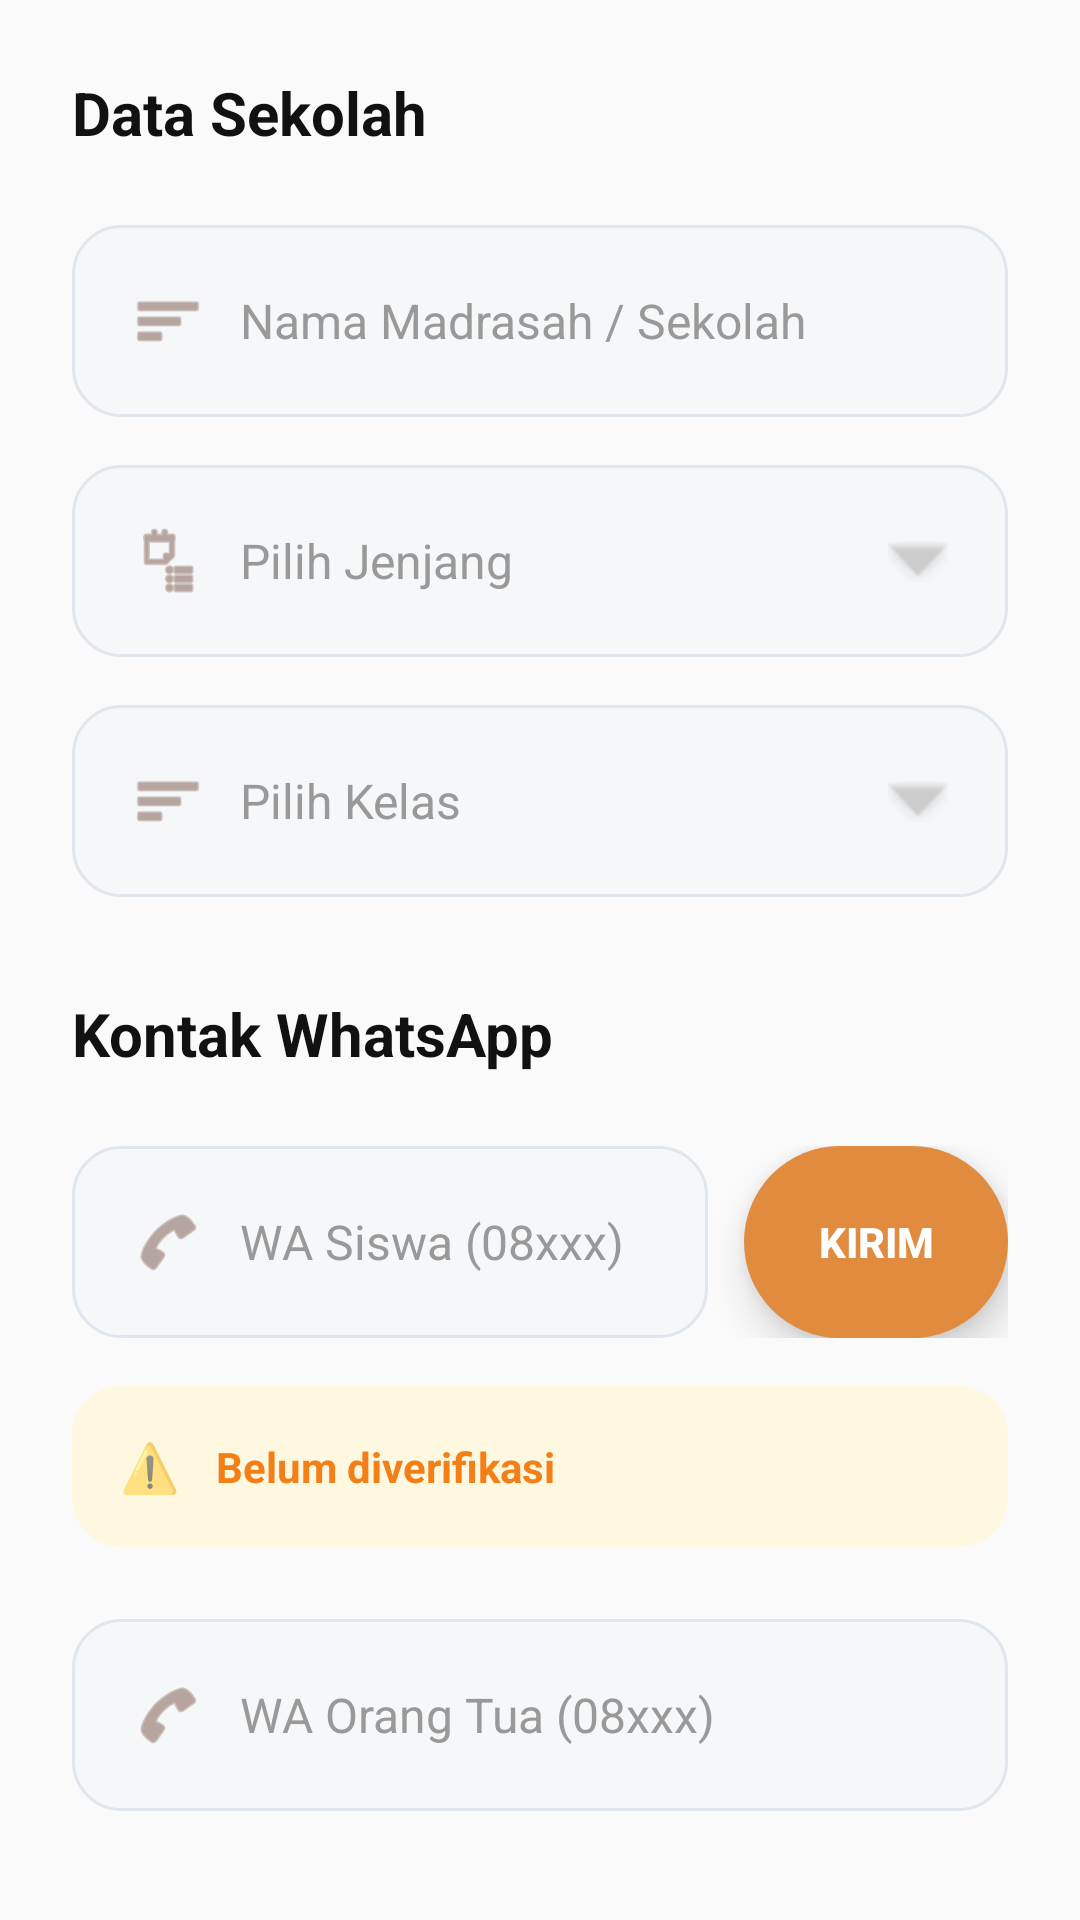

Locate icon controls on the screen. Image size 1080×1920, boxes as {"left": x1, "top": y1, "right": x2, "bottom": y2}.
arrow down float: {"left": 892, "top": 546, "right": 944, "bottom": 575}, {"left": 892, "top": 786, "right": 944, "bottom": 815}
call: {"left": 140, "top": 1214, "right": 196, "bottom": 1270}, {"left": 140, "top": 1687, "right": 196, "bottom": 1743}
sort by size: {"left": 137, "top": 301, "right": 199, "bottom": 341}, {"left": 137, "top": 781, "right": 199, "bottom": 821}
